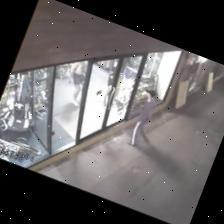person: (128, 90, 155, 145), (70, 61, 86, 105)
